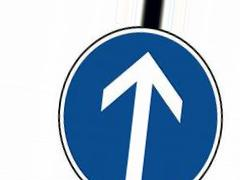forward: (58, 25, 224, 180)
